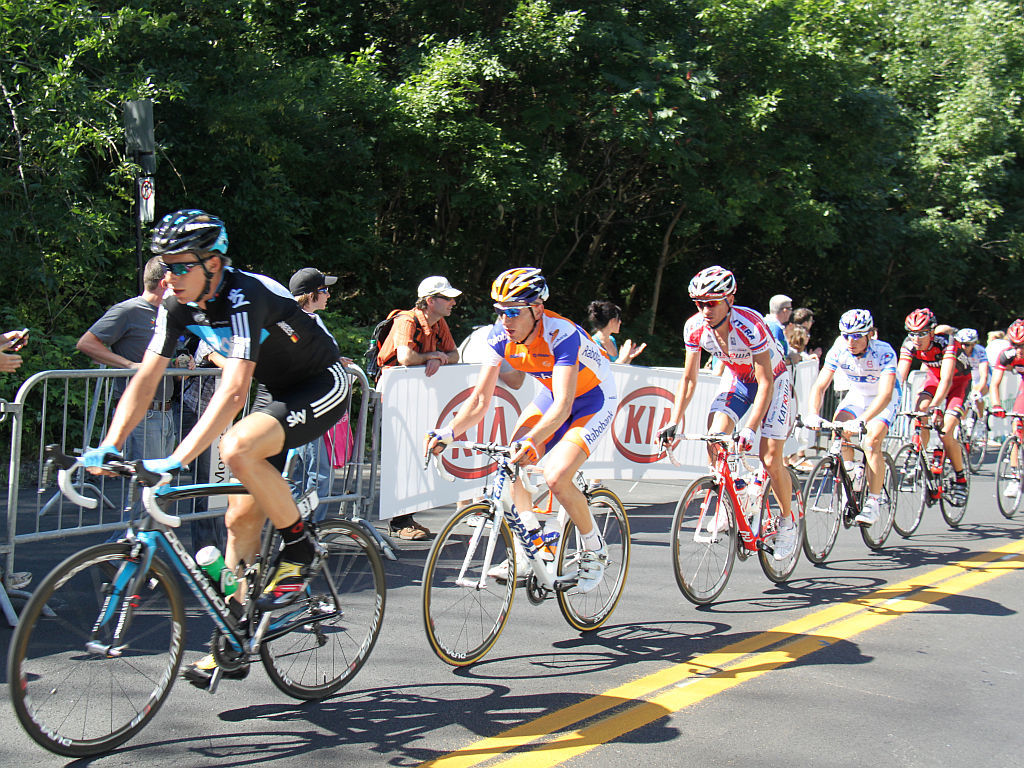Bike: (10, 434, 392, 758), (425, 428, 634, 665), (659, 428, 809, 605), (811, 425, 903, 571), (906, 412, 971, 532)
